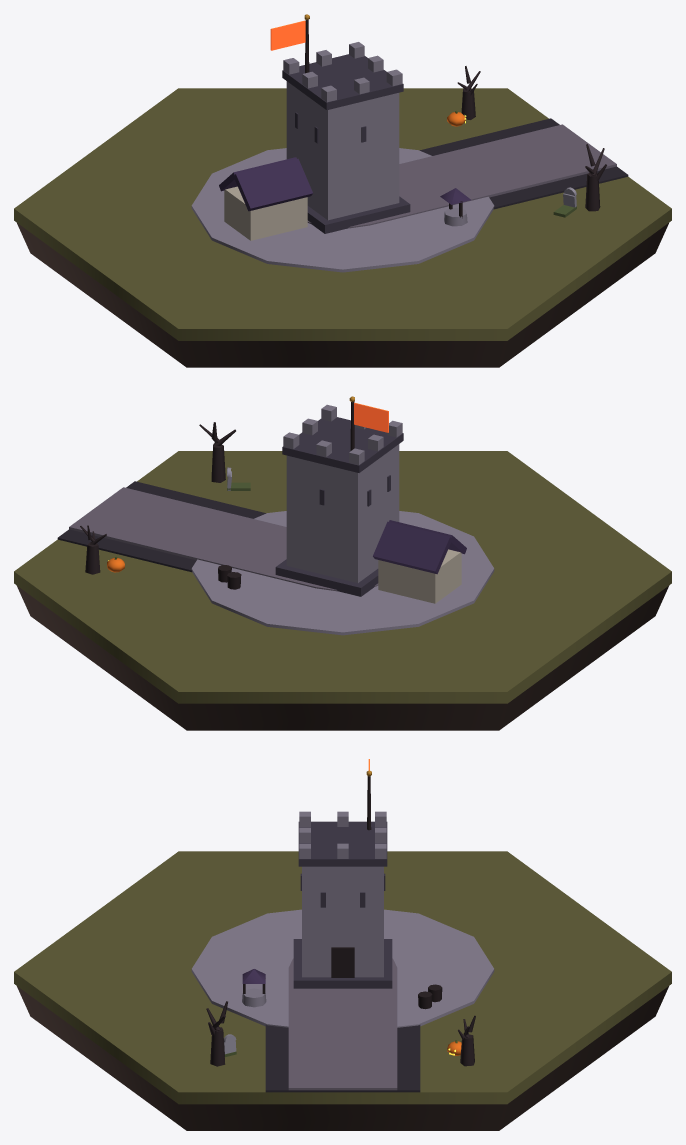
File: tile_base_standard.glb
3 renders of one model, top to bottom at view 1: azimuth 30°, elevation 25°; view 2: azimuth 150°, elevation 25°; view 3: azimuth 270°, elevation 25°, orthographic.
Visible parts, largest first — view 1: ground, ground_soil, road, courtyard, keep_body, keep_band, hall_body, hall_roof_south, keep, keep_plinth, keep_banner_cloth; view 2: ground, ground_soil, road, courtyard, keep_body, keep_band, hall_body, hall_roof_north, keep, keep_plinth, keep_banner_cloth; view 3: ground, courtyard, ground_soil, road, keep_body, keep_band, keep_plinth, keep, keep_door.
Part boxes in pixels (left/top/right/bottom): ground: left=14, top=88, right=671, bottom=340; ground_soil: left=17, top=223, right=668, bottom=367; road: left=368, top=118, right=628, bottom=225; courtyard: left=191, top=148, right=494, bottom=272; keep_body: left=286, top=81, right=399, bottom=220; keep_band: left=282, top=54, right=403, bottom=109; hall_body: left=224, top=186, right=307, bottom=240; hall_roof_south: left=234, top=158, right=313, bottom=211; keep: left=283, top=42, right=402, bottom=102; keep_plinth: left=307, top=196, right=410, bottom=233; keep_banner_cloth: left=270, top=20, right=305, bottom=50; ground: left=14, top=451, right=671, bottom=703; ground_soil: left=16, top=585, right=669, bottom=730; road: left=57, top=481, right=317, bottom=588; courtyard: left=191, top=511, right=494, bottom=635; keep_body: left=286, top=444, right=399, bottom=582; keep_band: left=282, top=417, right=403, bottom=472; hall_body: left=378, top=549, right=461, bottom=603; hall_roof_north: left=373, top=521, right=451, bottom=574; keep: left=283, top=404, right=402, bottom=465; keep_plinth: left=275, top=559, right=378, bottom=596; keep_banner_cloth: left=354, top=402, right=388, bottom=432; ground: left=14, top=851, right=671, bottom=1104; courtyard: left=191, top=909, right=494, bottom=1027; ground_soil: left=17, top=986, right=668, bottom=1130; road: left=265, top=967, right=420, bottom=1092; keep_body: left=302, top=866, right=383, bottom=977; keep_band: left=298, top=821, right=387, bottom=866; keep_plinth: left=293, top=939, right=392, bottom=988; keep: left=299, top=811, right=386, bottom=858; keep_door: left=331, top=947, right=354, bottom=977.
Bounding box in the file's own units: 1.73 × 0.788 × 2.
